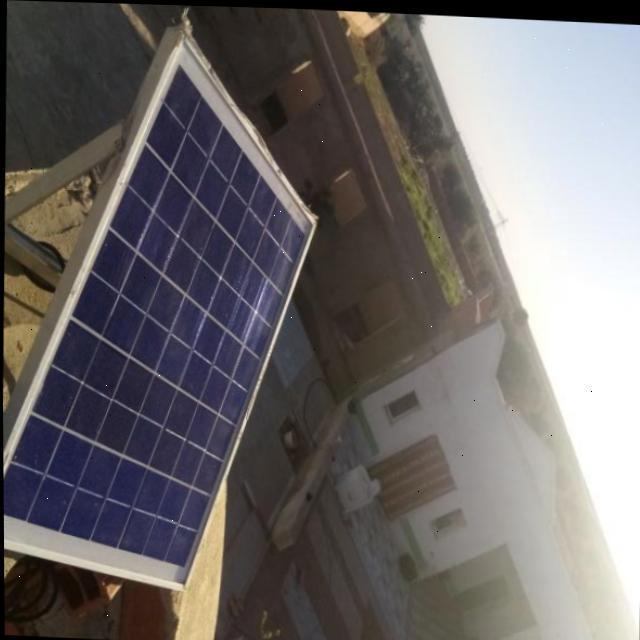Normal Solar Panel: (0, 25, 318, 593)
